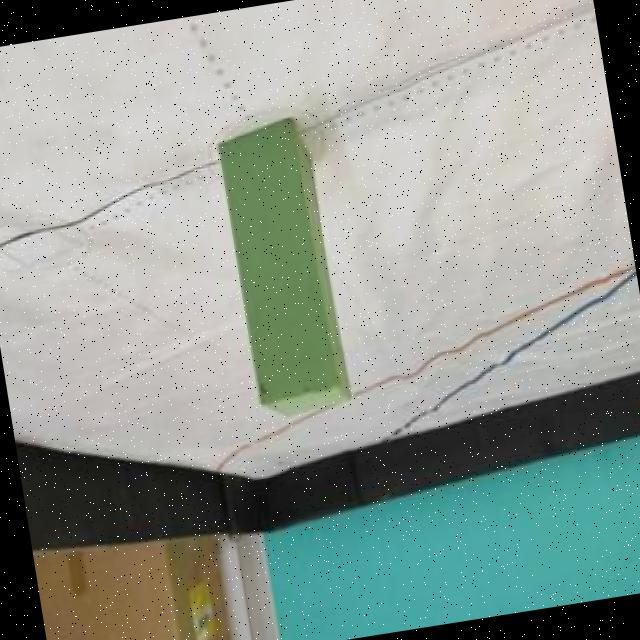greenbox: (216, 116, 354, 423)
